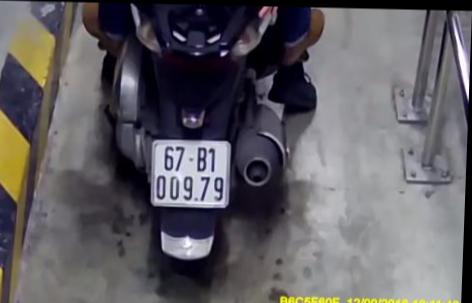LP: (149, 134, 235, 210)
